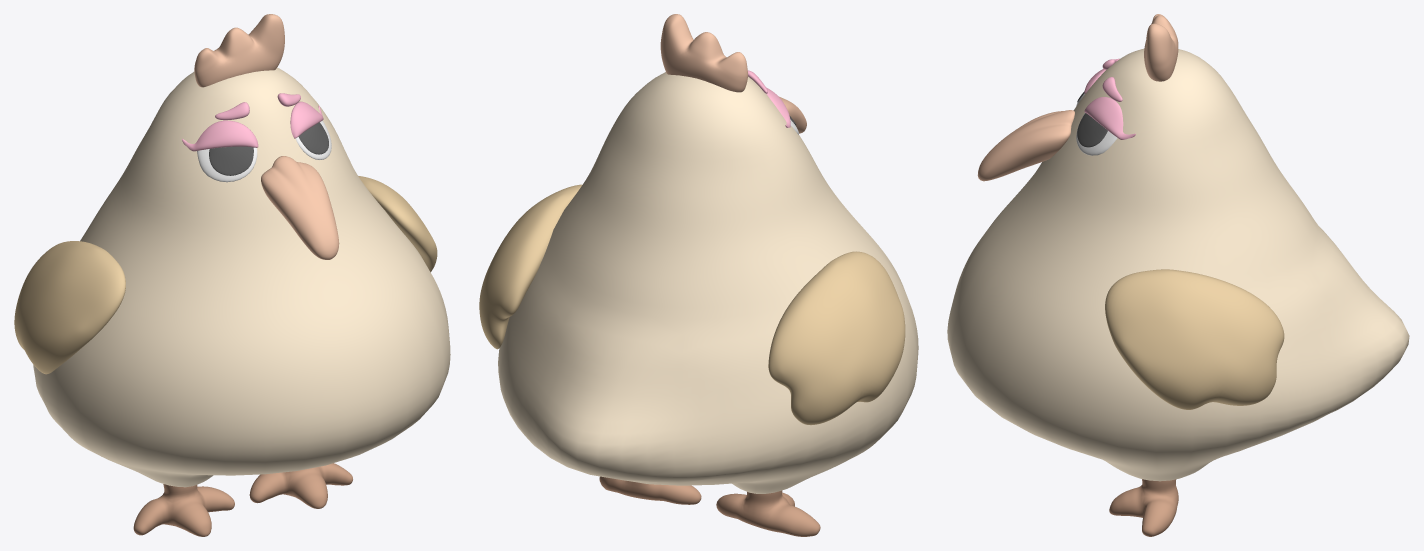
Rendered from hen.fbx.
The picture shows the model from 3 angles, left to right: view 1: azimuth 30°, elevation 25°; view 2: azimuth 150°, elevation 25°; view 3: azimuth 270°, elevation 25°; orthographic projection. The views are drawn at different scales.
Visible parts, largest first — view 1: henbody, henwing, henfeet, henbeak, hencomb, heneyelid, heneyeblack, heneyewhite, heneyebrow; view 2: henbody, henwing, henfeet, hencomb; view 3: henbody, henwing, henbeak, henfeet, hencomb, heneyelid, heneyeblack.
Part boxes in pixels (bbox=[...]): henbody: bbox=[33, 67, 450, 487]; henwing: bbox=[14, 176, 437, 374]; henfeet: bbox=[133, 463, 352, 536]; henbeak: bbox=[261, 156, 339, 259]; hencomb: bbox=[194, 14, 284, 87]; heneyelid: bbox=[182, 101, 323, 151]; heneyeblack: bbox=[209, 122, 328, 175]; heneyewhite: bbox=[197, 120, 331, 182]; heneyebrow: bbox=[215, 93, 300, 120]; henbody: bbox=[498, 72, 918, 493]; henwing: bbox=[479, 184, 905, 425]; henfeet: bbox=[599, 476, 820, 536]; hencomb: bbox=[660, 14, 747, 92]; henbody: bbox=[947, 48, 1409, 481]; henwing: bbox=[1105, 269, 1284, 409]; henbeak: bbox=[977, 110, 1074, 181]; henfeet: bbox=[1109, 479, 1178, 536]; hencomb: bbox=[1144, 14, 1178, 81]; heneyelid: bbox=[1084, 69, 1135, 139]; heneyeblack: bbox=[1077, 91, 1107, 147].
Bounding box in the file's own units: 0.7666 × 0.913 × 0.801.
